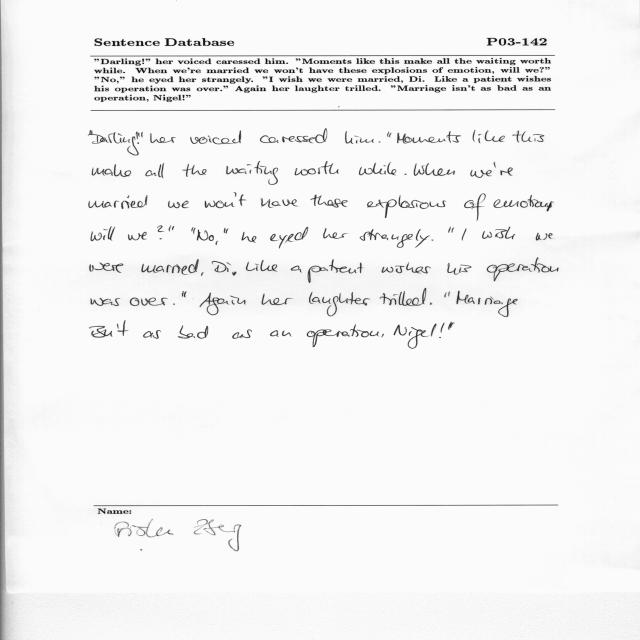word: (367, 195, 446, 218), (487, 258, 559, 281), (307, 324, 379, 347), (456, 291, 518, 317), (309, 292, 370, 316), (88, 130, 143, 156), (308, 259, 364, 283), (360, 229, 430, 248), (226, 161, 278, 185), (394, 324, 437, 349), (200, 293, 246, 315), (260, 129, 327, 144), (141, 259, 199, 275), (397, 131, 461, 144), (380, 288, 426, 306), (89, 195, 147, 209), (270, 227, 308, 248), (493, 195, 548, 208), (90, 321, 129, 338), (295, 161, 339, 176), (205, 193, 247, 208), (464, 194, 486, 222), (381, 263, 431, 274), (414, 163, 455, 176), (92, 164, 131, 177), (359, 162, 396, 175), (311, 195, 348, 208), (472, 130, 505, 143), (482, 227, 515, 240), (213, 131, 241, 145), (178, 326, 208, 339), (512, 131, 544, 143), (260, 198, 298, 208), (345, 131, 374, 144), (91, 227, 116, 242), (90, 262, 124, 273), (246, 260, 278, 271), (262, 294, 292, 305), (182, 164, 207, 177), (130, 298, 168, 306), (447, 263, 472, 275), (146, 163, 165, 178), (494, 162, 513, 176), (323, 228, 347, 239), (150, 133, 176, 143), (91, 298, 120, 306), (212, 261, 231, 272), (232, 329, 252, 339), (197, 230, 214, 241), (471, 170, 492, 178), (143, 330, 161, 339), (270, 330, 292, 337), (128, 232, 147, 240), (242, 232, 257, 242), (168, 201, 189, 208), (536, 233, 553, 241), (190, 137, 208, 144), (157, 226, 164, 239), (439, 323, 445, 338), (201, 136, 212, 143), (291, 266, 302, 273), (547, 202, 554, 212), (462, 228, 467, 241), (448, 322, 455, 330), (449, 227, 455, 233), (444, 292, 450, 298), (191, 227, 196, 234), (182, 291, 187, 298), (387, 132, 392, 138), (169, 226, 174, 231), (232, 271, 237, 276), (224, 228, 228, 234), (201, 272, 204, 276), (381, 334, 384, 338), (216, 241, 218, 245), (430, 302, 432, 305), (173, 303, 175, 305), (404, 174, 407, 175), (431, 240, 434, 241), (379, 142, 381, 143)
